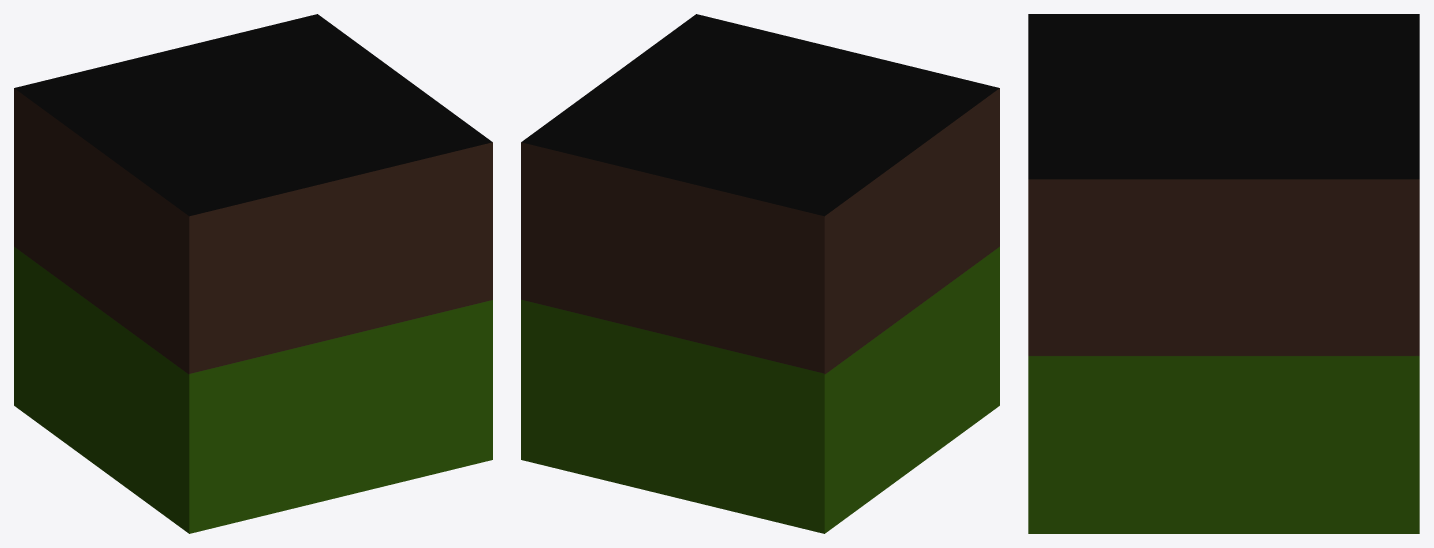
File: yol2.FBX
The picture shows the model from 3 angles, left to right: view 1: azimuth 30°, elevation 25°; view 2: azimuth 150°, elevation 25°; view 3: azimuth 270°, elevation 25°; orthographic projection. The views are drawn at different scales.
Parts seen in each view (by area): view 1: Box001; view 2: Box001; view 3: Box001.
Part boxes in pixels (<box>): Box001: <box>14,14,492,533</box>; Box001: <box>521,14,999,533</box>; Box001: <box>1028,14,1419,533</box>.
Size of the model in its own units: 508 by 508 by 508.
1 material, 1 textured.
